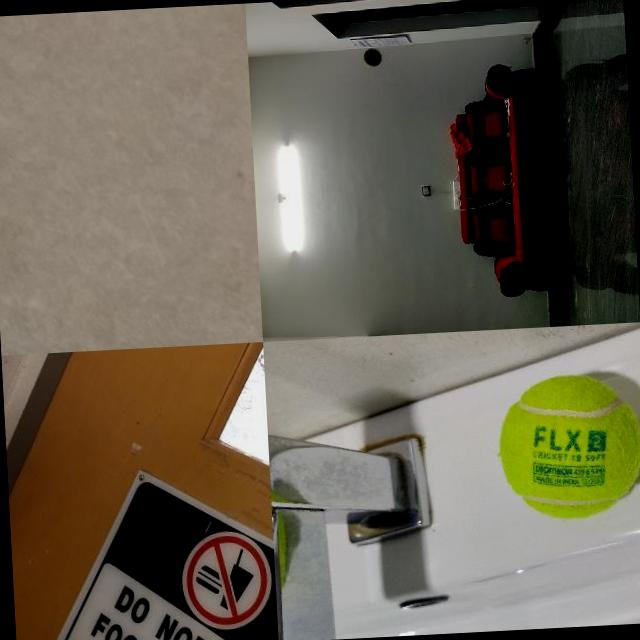Tennis Ball: (493, 372, 640, 522), (363, 48, 383, 68)
